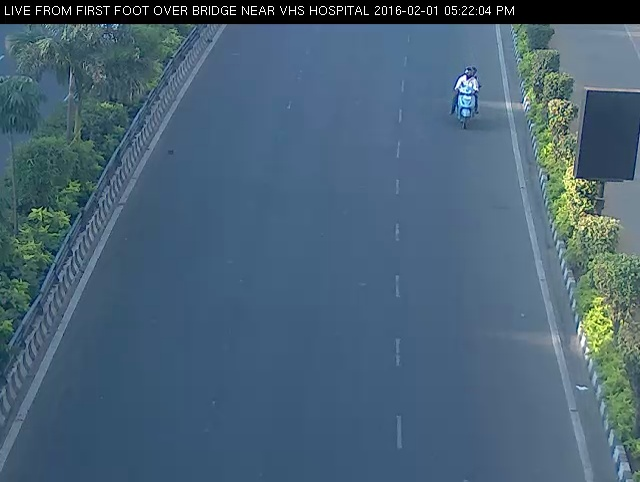Person: (439, 58, 495, 137)
